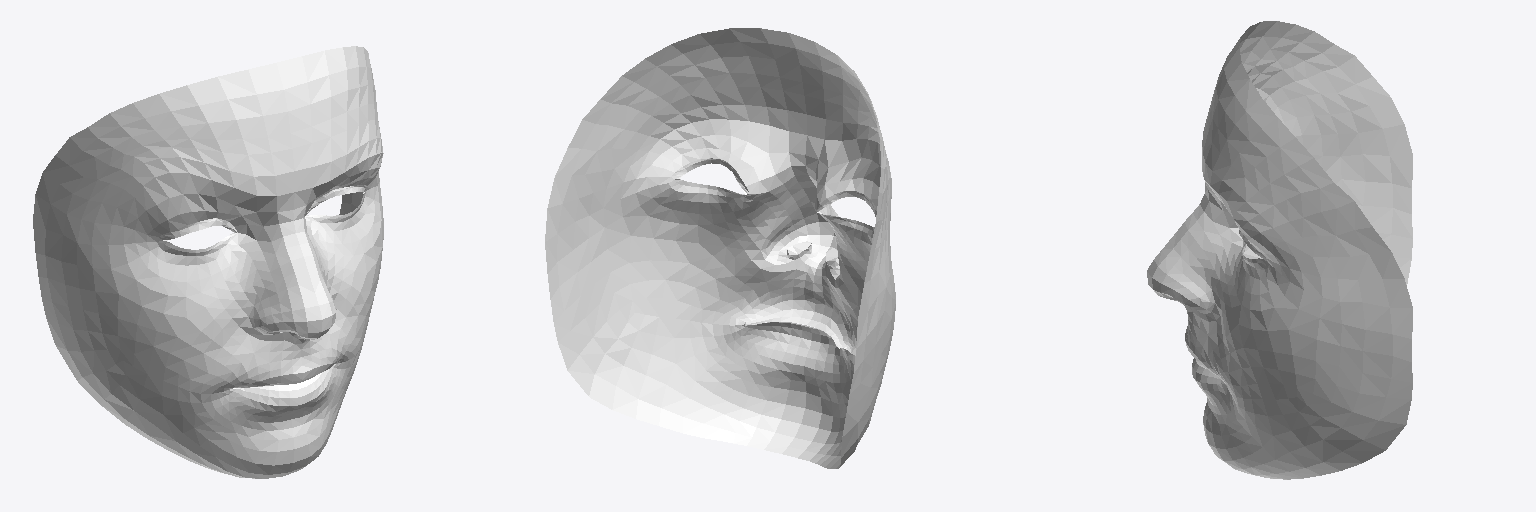
The model's file is browOuterUp_R.obj.
3 renders of one model, left to right at view 1: azimuth 30°, elevation 25°; view 2: azimuth 150°, elevation 25°; view 3: azimuth 270°, elevation 25°, orthographic.
Parts seen in each view (by area): view 1: default; view 2: default; view 3: default.
Boxes of the visible parts, x1,y1,x2,y2 form: default: [33, 46, 383, 478]; default: [545, 28, 895, 468]; default: [1147, 21, 1412, 479].
Bounding box in the file's own units: 0.1447 × 0.182 × 0.1055.